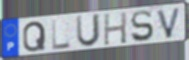H: (103, 11, 128, 47)
L: (51, 18, 72, 51)
Q: (22, 20, 47, 54)
S: (130, 9, 156, 44)
U: (75, 13, 102, 49)
V: (155, 6, 183, 40)
